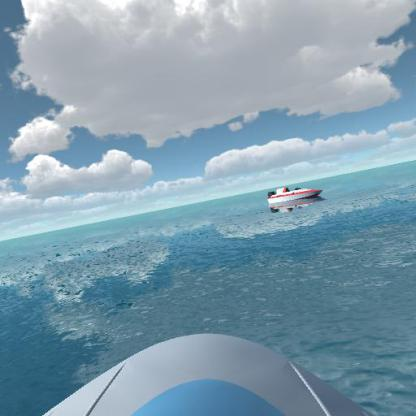usv3: (265, 182, 324, 214)
